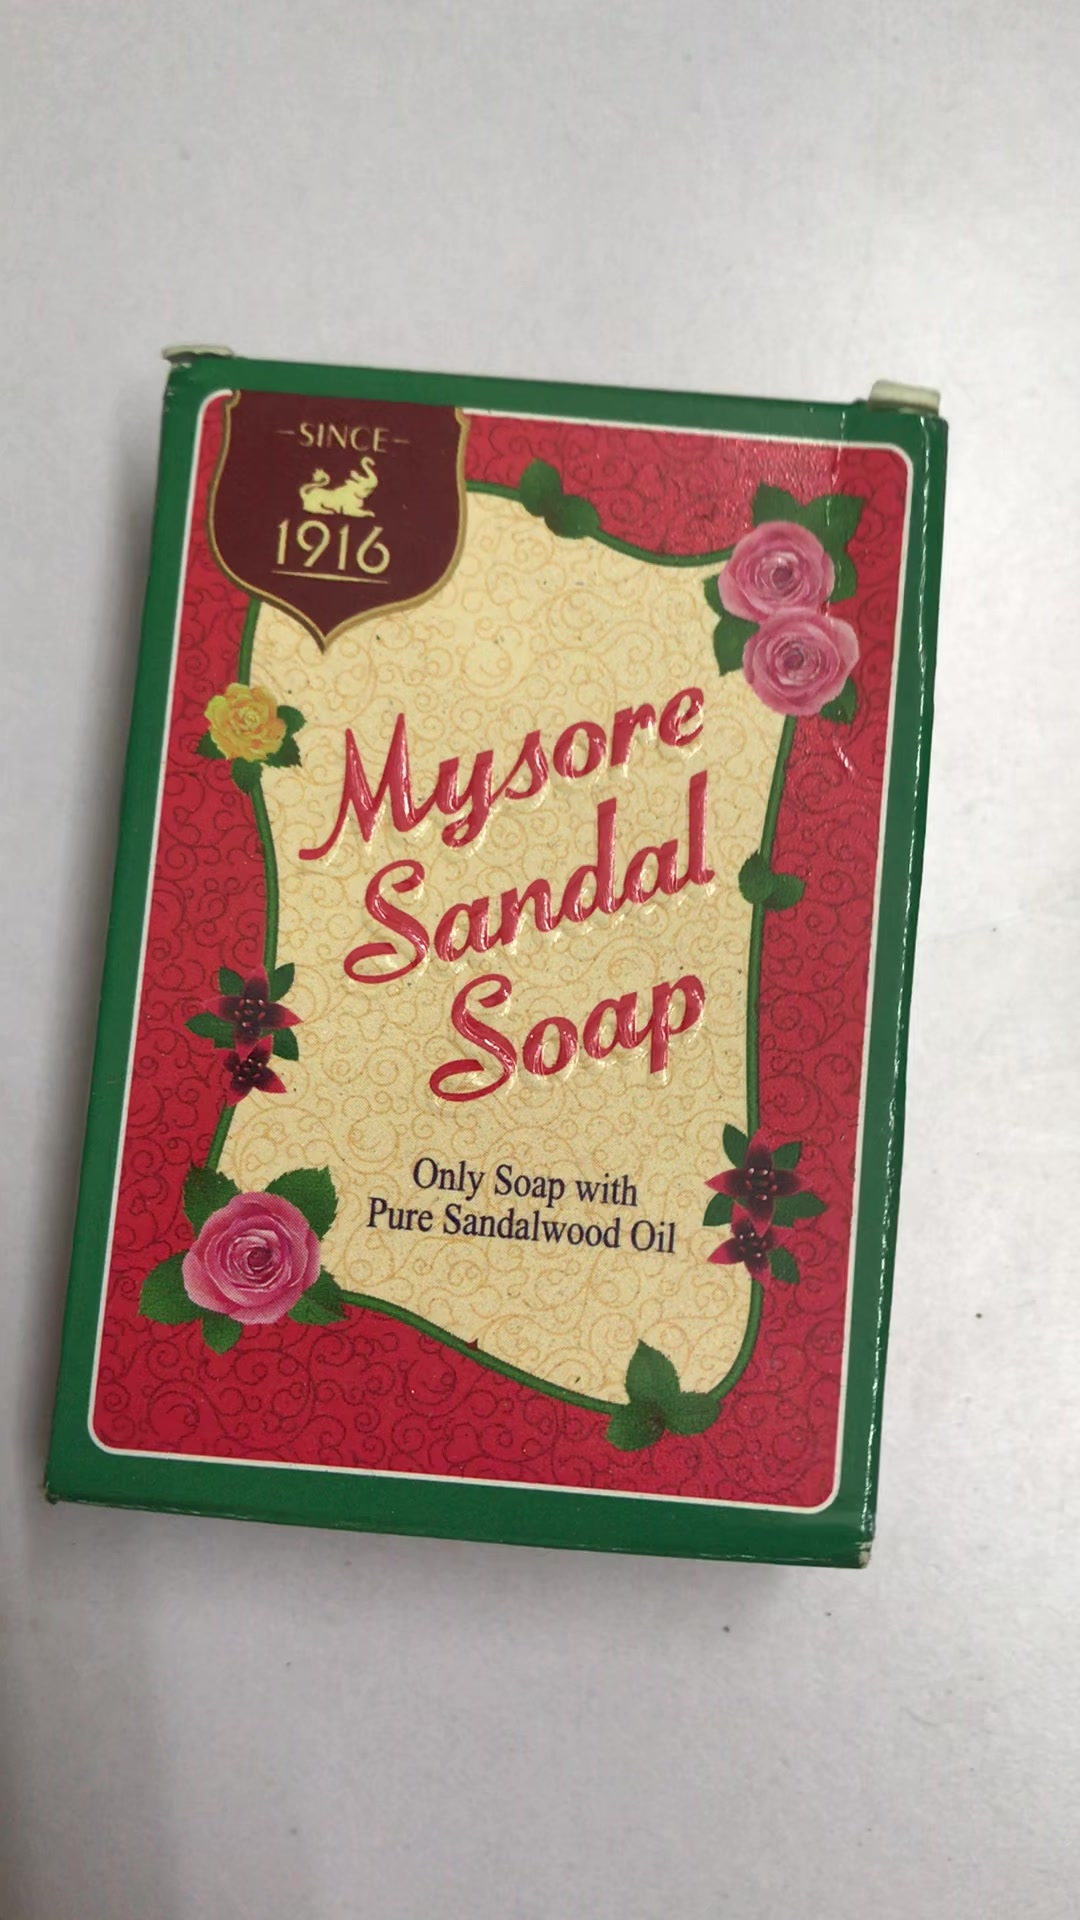mysore sandal soap: (49, 356, 949, 1571)
